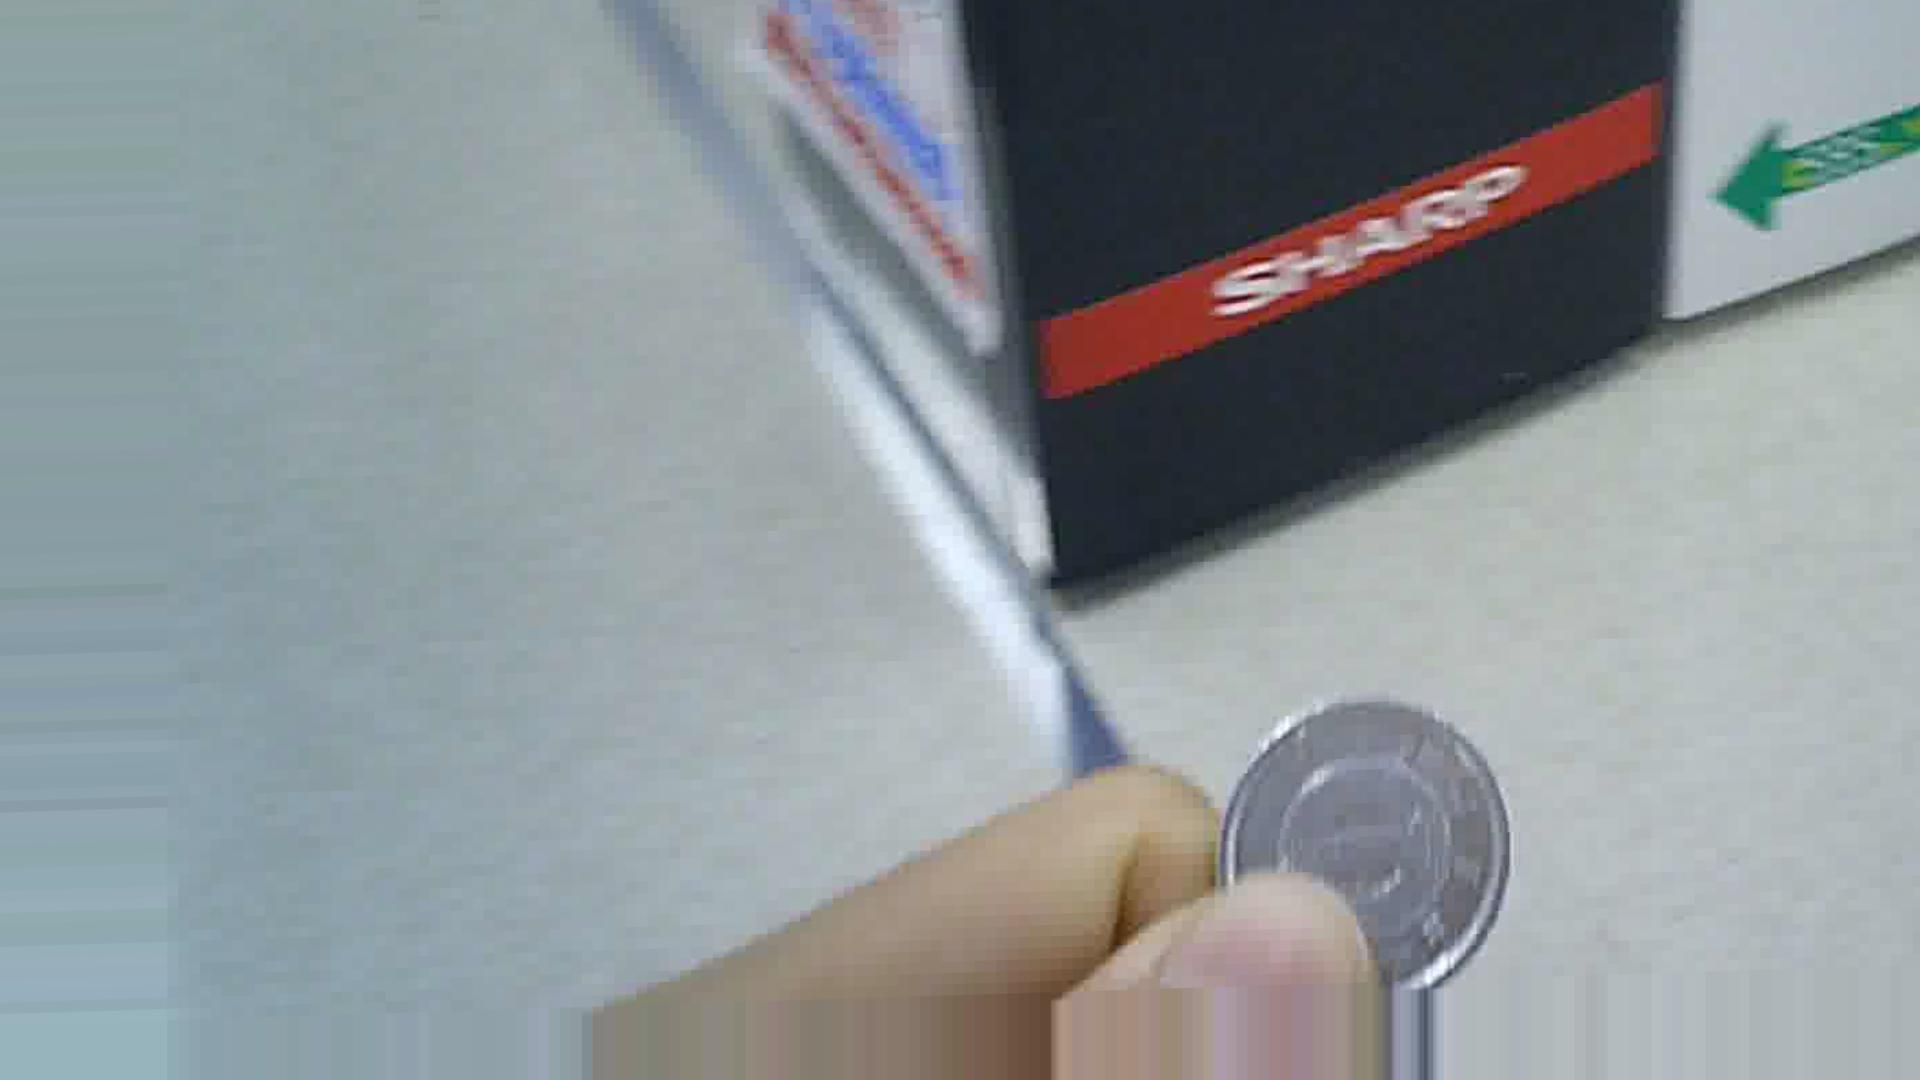1 Yen: (1225, 696, 1515, 992)
